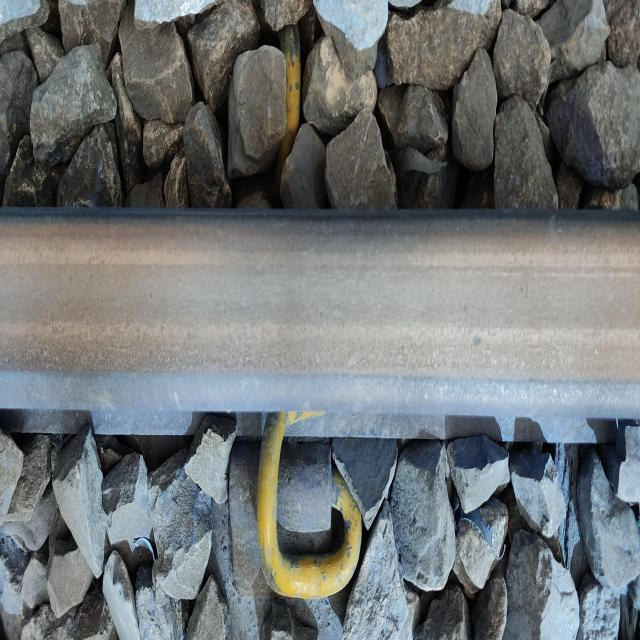Good Fasteners: (208, 413, 363, 637), (276, 25, 301, 182)
